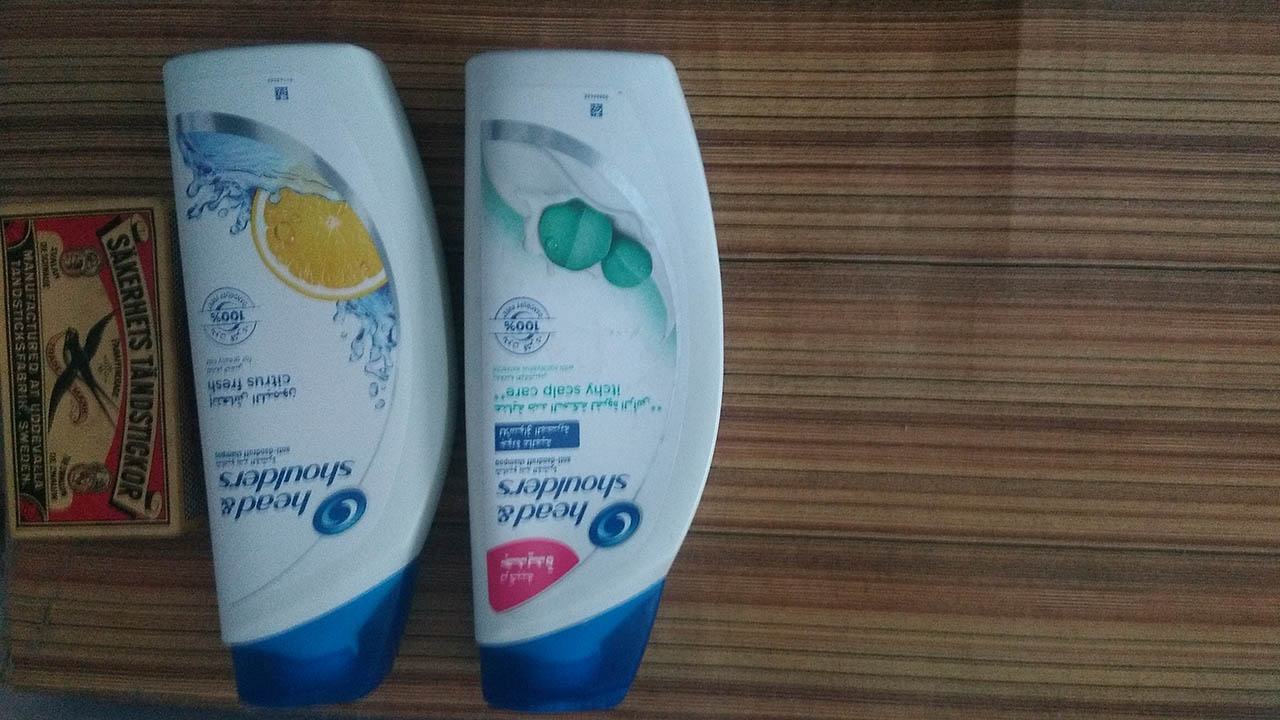match-sticks .90$: (9, 198, 157, 545)
shampoo-Lemon 3.5$: (157, 46, 449, 709)
shampoo-green 4.5$: (453, 53, 729, 717)
